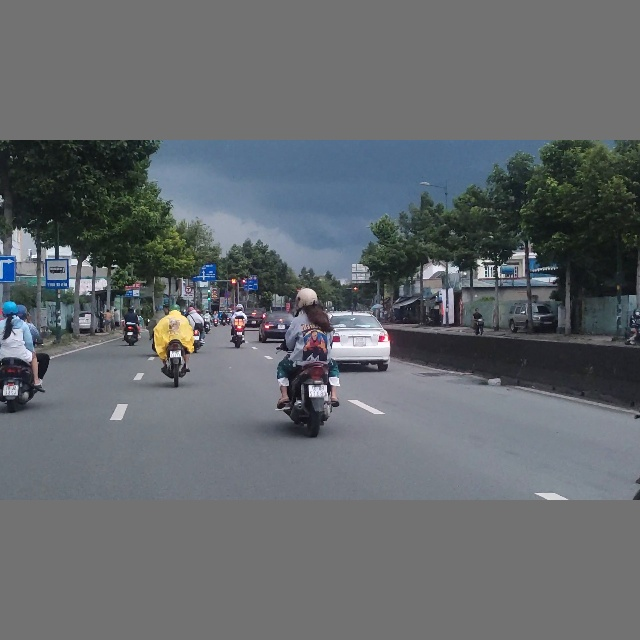I.434a: (45, 258, 69, 288)
P.137: (185, 286, 192, 293)
R.415a: (244, 279, 258, 290)
